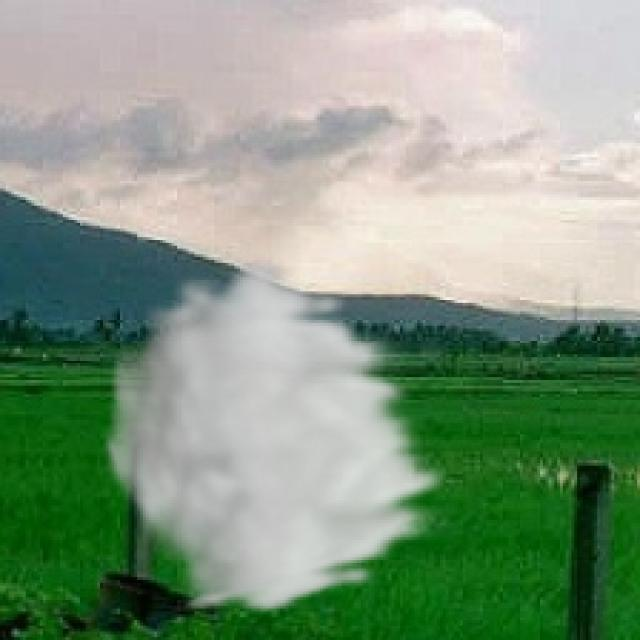Smoke: (97, 254, 460, 617)
